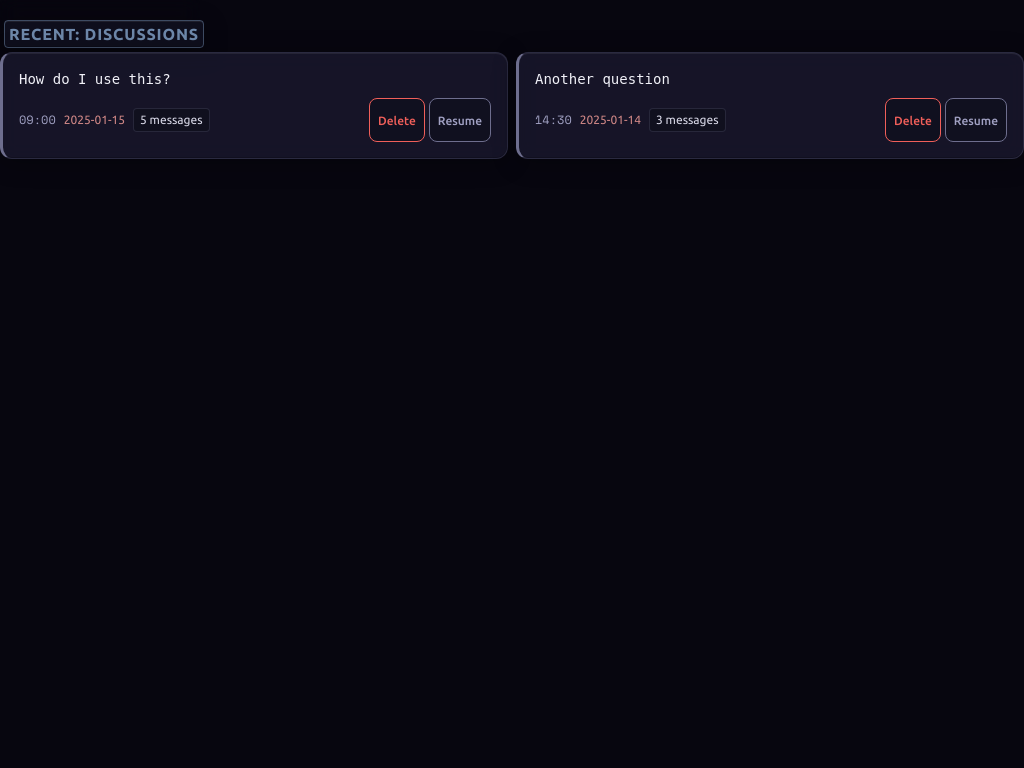
Test: RecentActivity › Delete button behavior › shows confirmation dialog when Delete is clicked
The width and height of the screenshot is (1024, 768).
Click the button with aria-label "delete discussion".
click(397, 120)  # box x1=369 y1=98 x2=425 y2=142
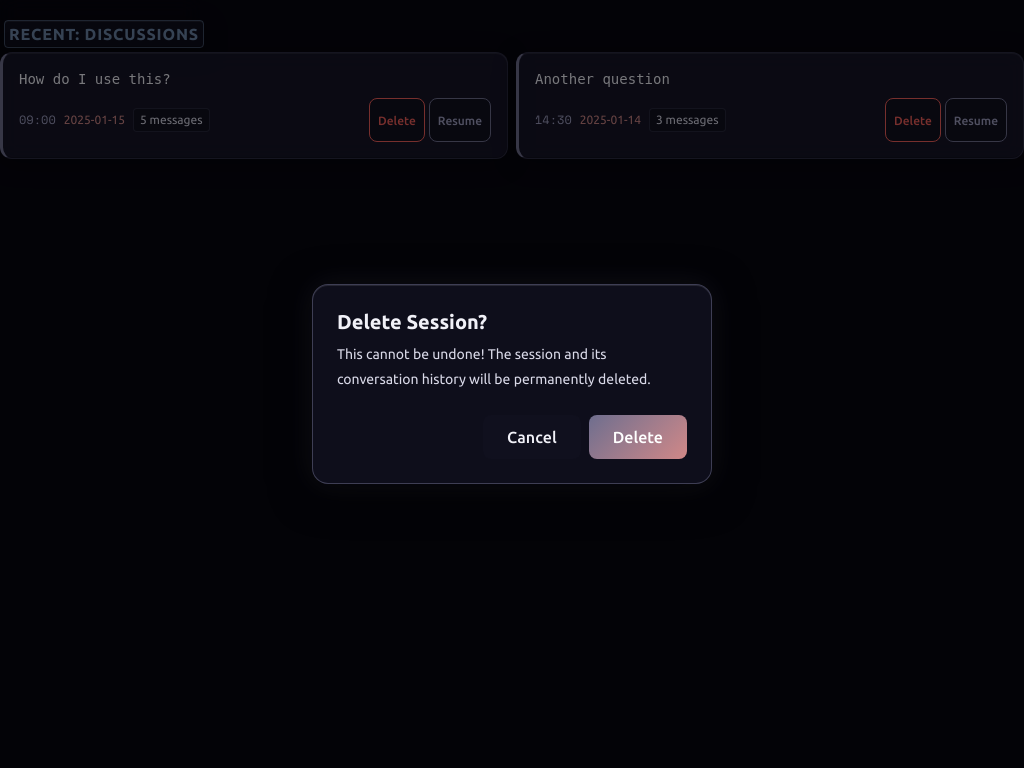
Now the dialog is shown, box x1=312 y1=284 x2=712 y2=484
Now the heading "Delete Session?" is shown, box x1=337 y1=310 x2=487 y2=333
Now the text "This cannot be undone" is shown, box x1=337 y1=346 x2=651 y2=386
